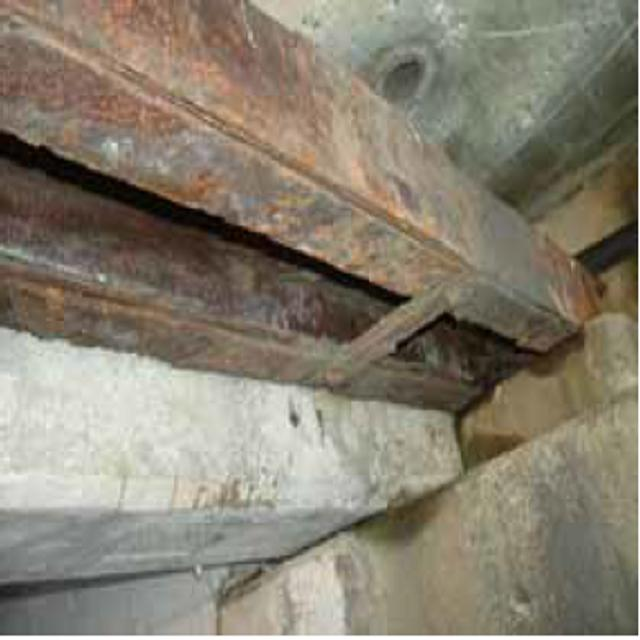corrosion: (6, 2, 598, 404)
